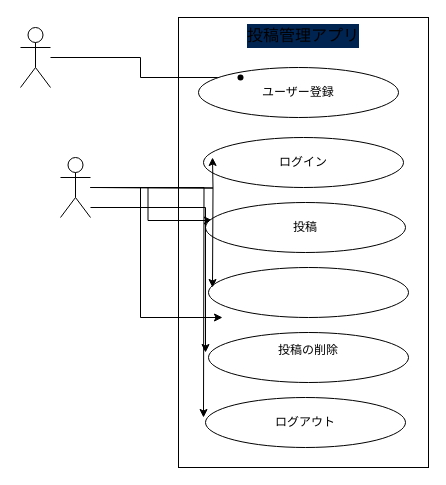
Image size: 446x485. Some labels were removed from this diagram. The box of each missing label's shape, as (x1, y1, x2, y2) in pixels:
ログイン済 利用者: (60, 156, 90, 218)
投稿の編集: (208, 266, 408, 318)
訪問者: (20, 26, 50, 88)
